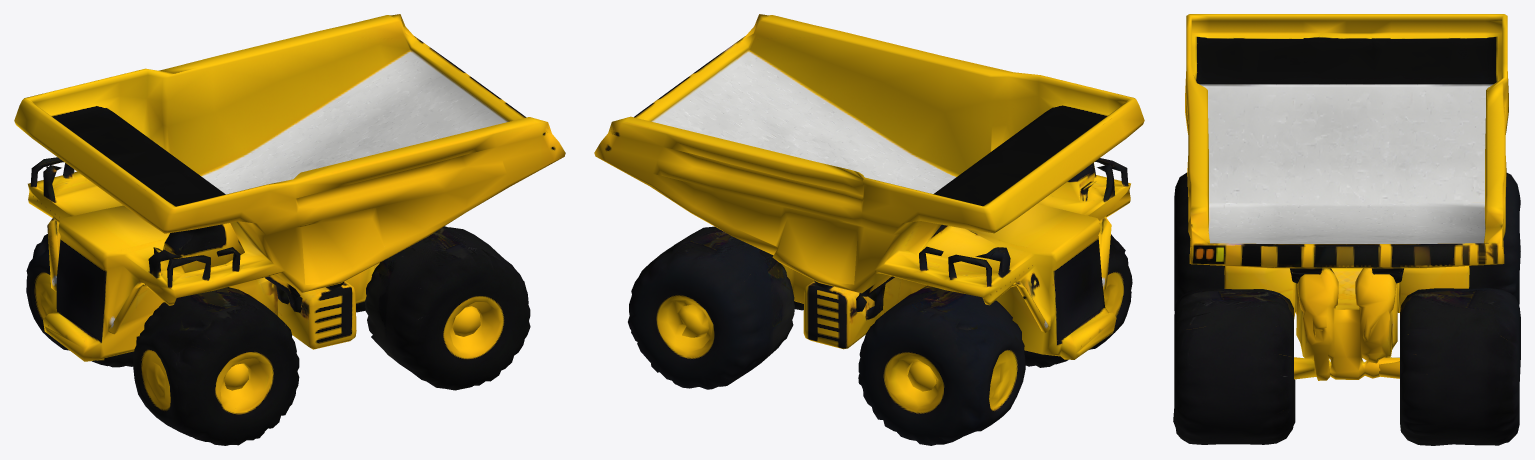
File: haultruck.glb
The picture shows the model from 3 angles, left to right: view 1: azimuth 30°, elevation 25°; view 2: azimuth 150°, elevation 25°; view 3: azimuth 270°, elevation 25°; orthographic projection. The views are drawn at different scales.
Size of the model in its own units: 1.89 by 1.07 by 1.25.
1 material, 1 textured.
